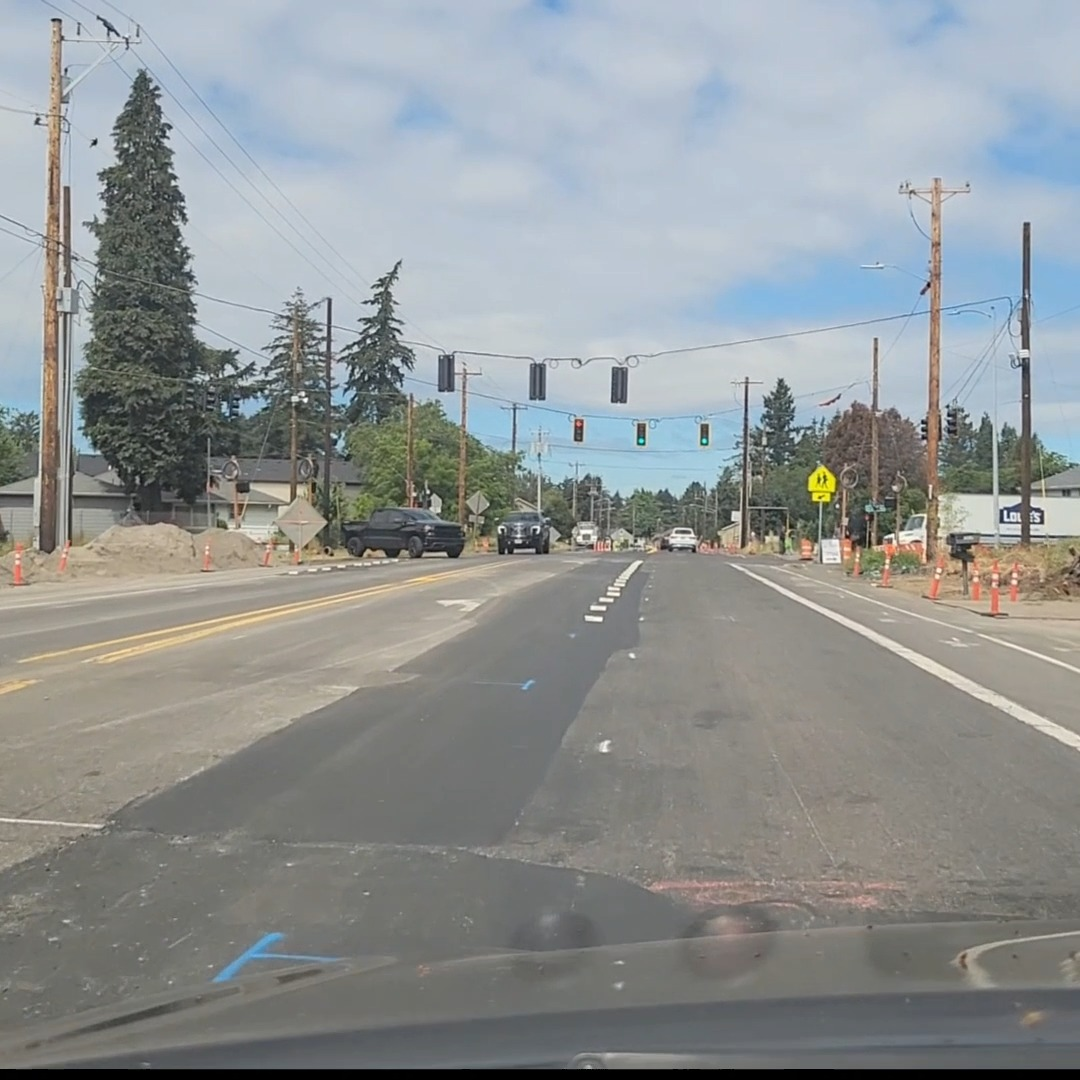car: (338, 507, 464, 558), (495, 511, 553, 554), (666, 527, 698, 551), (572, 521, 599, 549)
crosswalk-sign: (806, 465, 835, 502)
delineator: (11, 545, 25, 585), (989, 566, 1001, 612), (928, 562, 943, 598), (880, 551, 892, 586), (971, 564, 982, 601), (1008, 564, 1019, 601), (201, 543, 215, 572), (58, 541, 70, 573), (260, 538, 273, 566), (851, 547, 862, 577), (293, 539, 301, 565), (726, 541, 737, 553)
